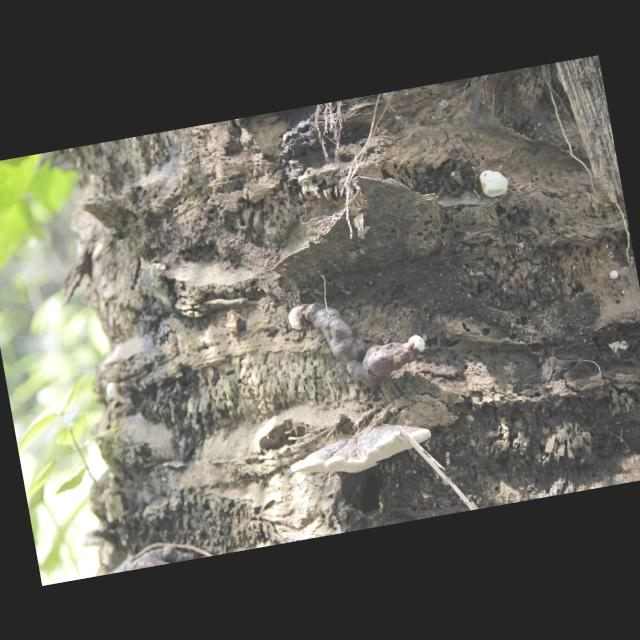ganoderma: (307, 288, 415, 397), (286, 417, 436, 486), (79, 528, 112, 551)
primordium: (479, 167, 512, 200), (106, 378, 140, 408), (288, 305, 312, 333), (408, 334, 428, 358), (610, 271, 620, 281)
